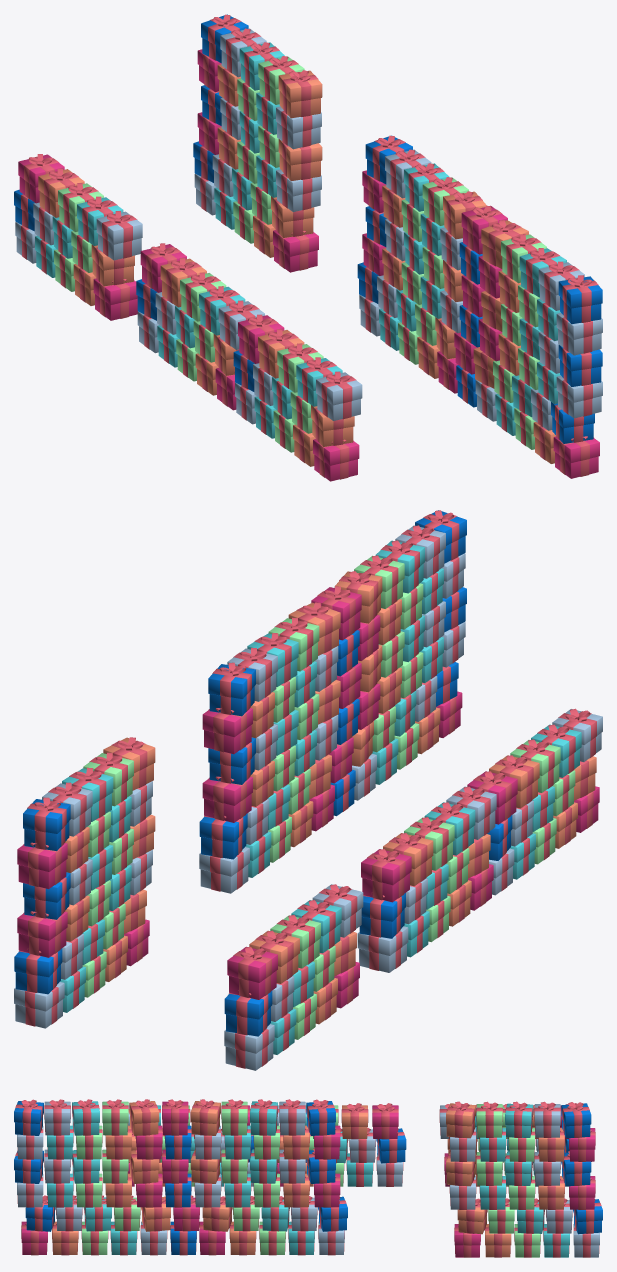
Rendered from Presents Variant.fbx.
3 views of the same model, one above another, from view 1: azimuth 30°, elevation 25°; view 2: azimuth 150°, elevation 25°; view 3: azimuth 270°, elevation 25° (orthographic). The views are drawn at different scales.
Visible parts, largest first — view 1: Cube.007, Cube.003, Cube.004, Cube.001; view 2: Cube.007, Cube.003, Cube.004, Cube.001; view 3: Cube.007, Cube.004, Cube.003, Cube.001.
Part boxes in pixels (x1,y1,x2,y2): Cube.007: (357, 135, 602, 478); Cube.003: (136, 243, 362, 481); Cube.004: (193, 14, 322, 272); Cube.001: (14, 154, 142, 320); Cube.007: (199, 510, 466, 893); Cube.003: (357, 708, 602, 972); Cube.004: (14, 737, 155, 1028); Cube.001: (224, 884, 363, 1070); Cube.007: (14, 1099, 347, 1255); Cube.004: (446, 1101, 602, 1257); Cube.003: (128, 1103, 406, 1186); Cube.001: (439, 1103, 591, 1186).
Size of the model in its own units: 1573 by 1333 by 4777.
